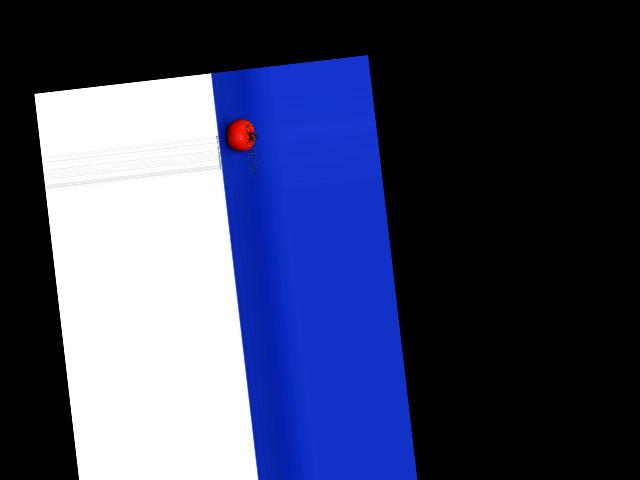tomato: (224, 116, 256, 152)
